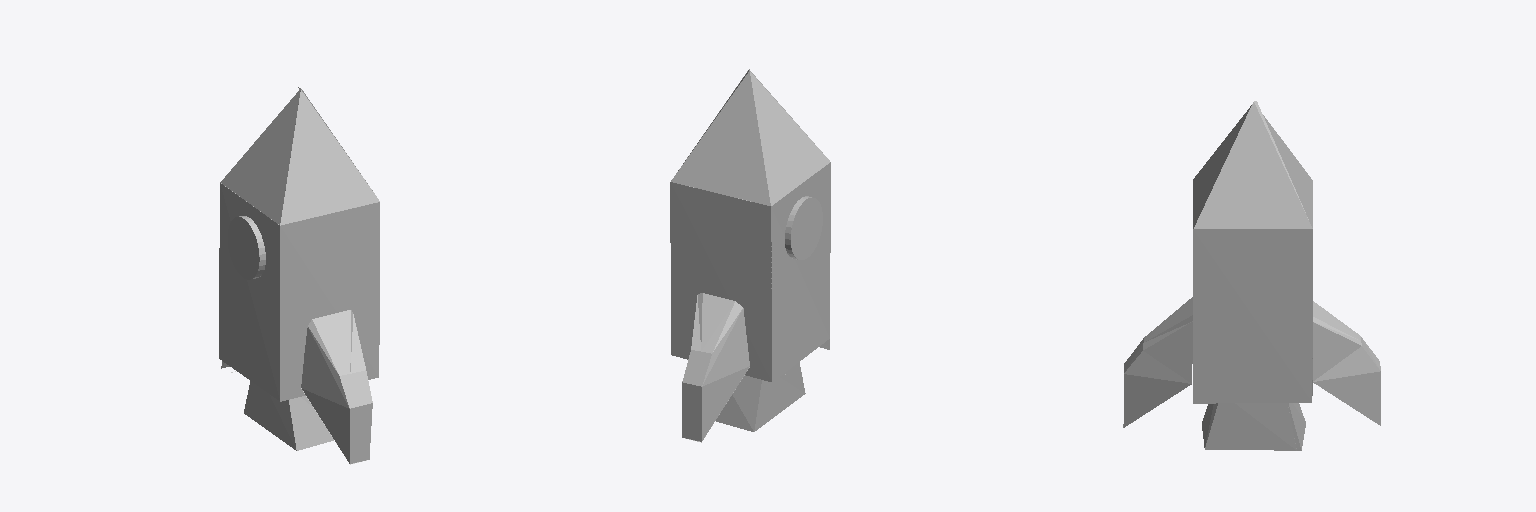
Rendered from rocket_model.obj.
The picture shows the model from 3 angles: view 1: azimuth 30°, elevation 25°; view 2: azimuth 150°, elevation 25°; view 3: azimuth 270°, elevation 25°; orthographic projection.
Visible parts, largest first — view 1: mainbody_Cube.016, head_Cube.012, leftwing_Cube, toorbine_Cube.013, eliminator_Cylinder.001; view 2: mainbody_Cube.016, head_Cube.012, rightwing_Cube.001, toorbine_Cube.013, eliminator_Cylinder.001; view 3: mainbody_Cube.016, head_Cube.012, leftwing_Cube, rightwing_Cube.001, toorbine_Cube.013.
Boxes of the visible parts, x1=… form: mainbody_Cube.016: x1=219, y1=183, x2=379, y2=401; head_Cube.012: x1=220, y1=87, x2=379, y2=225; leftwing_Cube: x1=301, y1=310, x2=372, y2=464; toorbine_Cube.013: x1=244, y1=381, x2=333, y2=450; eliminator_Cylinder.001: x1=228, y1=216, x2=265, y2=279; mainbody_Cube.016: x1=670, y1=162, x2=830, y2=381; head_Cube.012: x1=671, y1=69, x2=829, y2=205; rightwing_Cube.001: x1=682, y1=293, x2=785, y2=442; toorbine_Cube.013: x1=716, y1=362, x2=805, y2=431; eliminator_Cylinder.001: x1=785, y1=196, x2=822, y2=259; mainbody_Cube.016: x1=1193, y1=229, x2=1312, y2=403; head_Cube.012: x1=1193, y1=101, x2=1312, y2=228; leftwing_Cube: x1=1123, y1=297, x2=1192, y2=427; rightwing_Cube.001: x1=1313, y1=301, x2=1380, y2=425; toorbine_Cube.013: x1=1202, y1=403, x2=1305, y2=450.
Bounding box in the file's own units: 5.83 × 11.68 × 9.73.